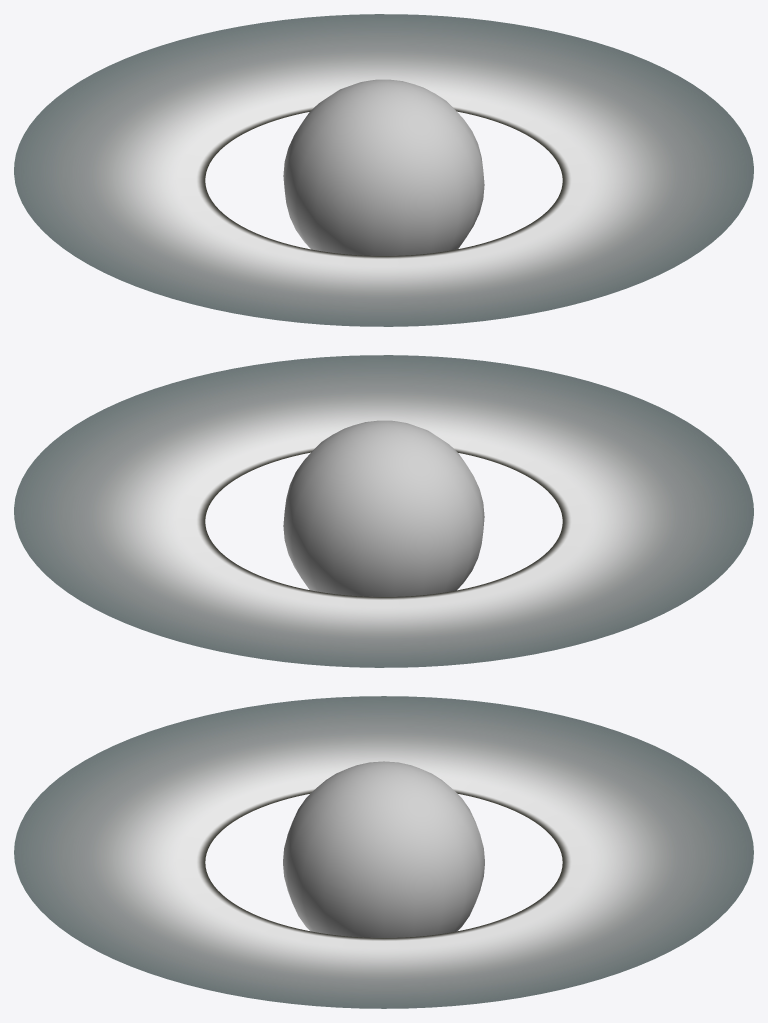
File: Uranus.dae
3 views of the same model, one above another, from view 1: azimuth 30°, elevation 25°; view 2: azimuth 150°, elevation 25°; view 3: azimuth 270°, elevation 25° (orthographic).
Visible parts, largest first — view 1: pTorus1, pSphere1; view 2: pTorus1, pSphere1; view 3: pTorus1, pSphere1.
Boxes of the visible parts, left/top/right/bottom form: pTorus1: left=14, top=14, right=753, bottom=326; pSphere1: left=283, top=79, right=484, bottom=255; pTorus1: left=14, top=355, right=753, bottom=667; pSphere1: left=283, top=420, right=484, bottom=596; pTorus1: left=14, top=696, right=753, bottom=1008; pSphere1: left=283, top=761, right=484, bottom=937.
Size of the model in its own units: 187 by 51.1 by 187.
